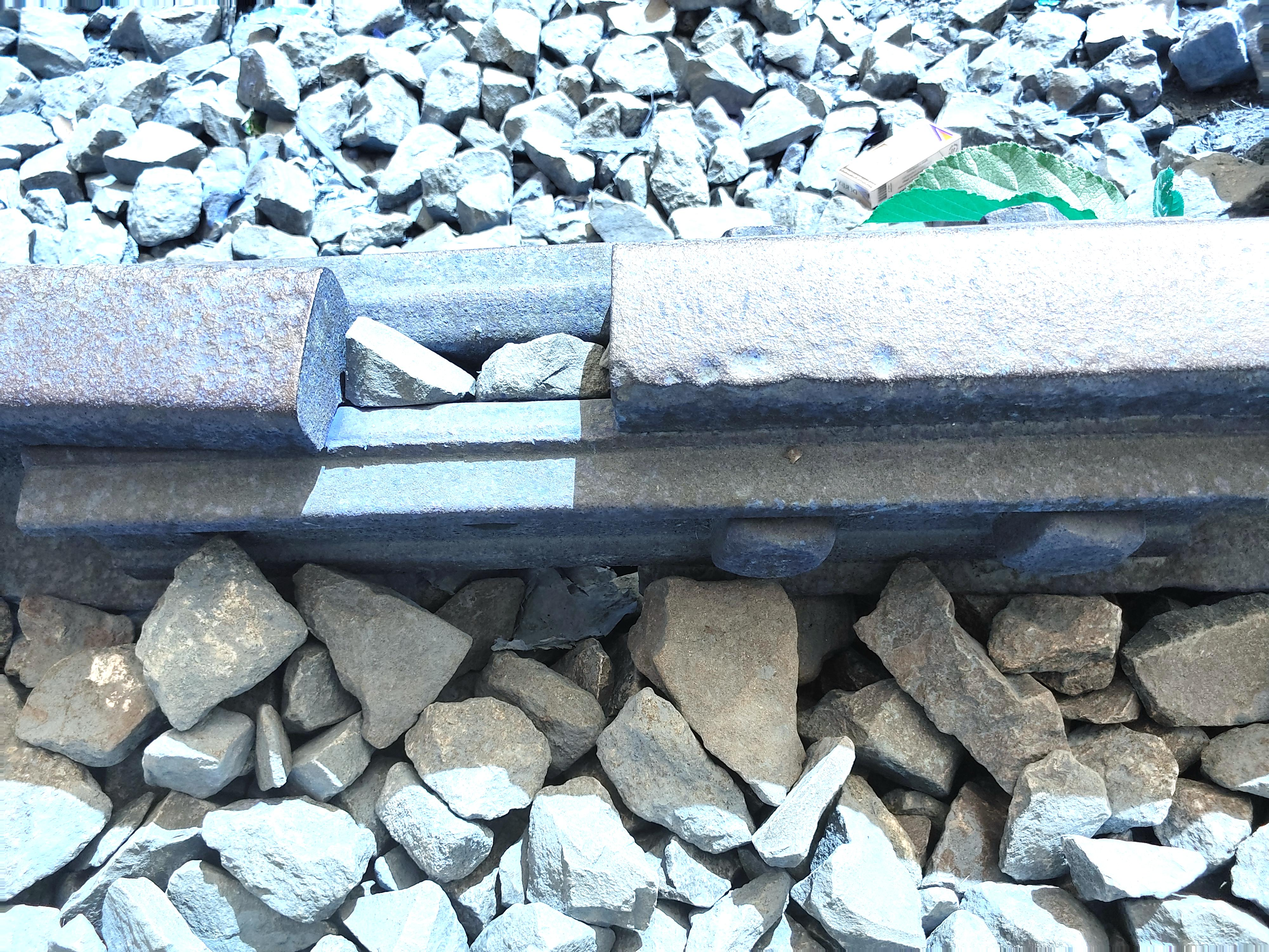tracks_fault: (241, 207, 671, 489)
